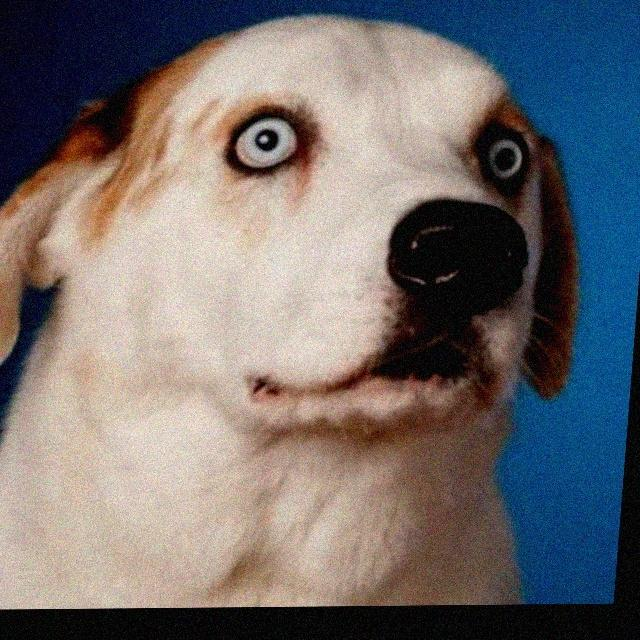dog: (0, 0, 604, 455)
